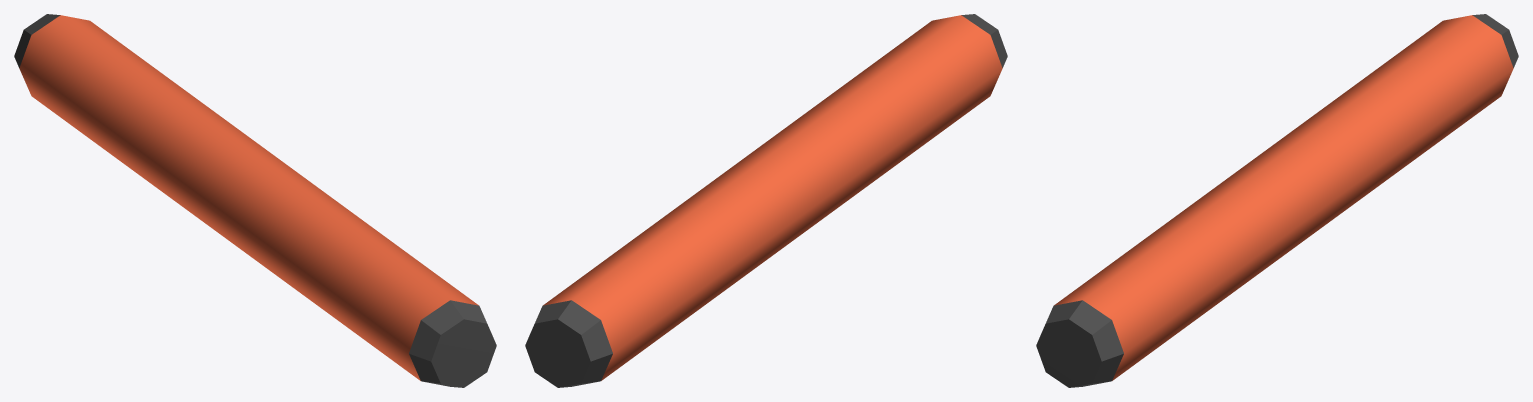
Rendered from rod_stick_5.FBX.
3 renders of one model, left to right at view 1: azimuth 30°, elevation 25°; view 2: azimuth 150°, elevation 25°; view 3: azimuth 330°, elevation 25°, orthographic.
Visible parts, largest first — view 1: rod_stick_5; view 2: rod_stick_5; view 3: rod_stick_5.
Boxes of the visible parts, left/top/right/bottom form: rod_stick_5: left=14, top=14, right=496, bottom=387; rod_stick_5: left=525, top=14, right=1007, bottom=387; rod_stick_5: left=1036, top=14, right=1518, bottom=387.
Bounding box in the file's own units: 3.11 × 3.11 × 27.12.
